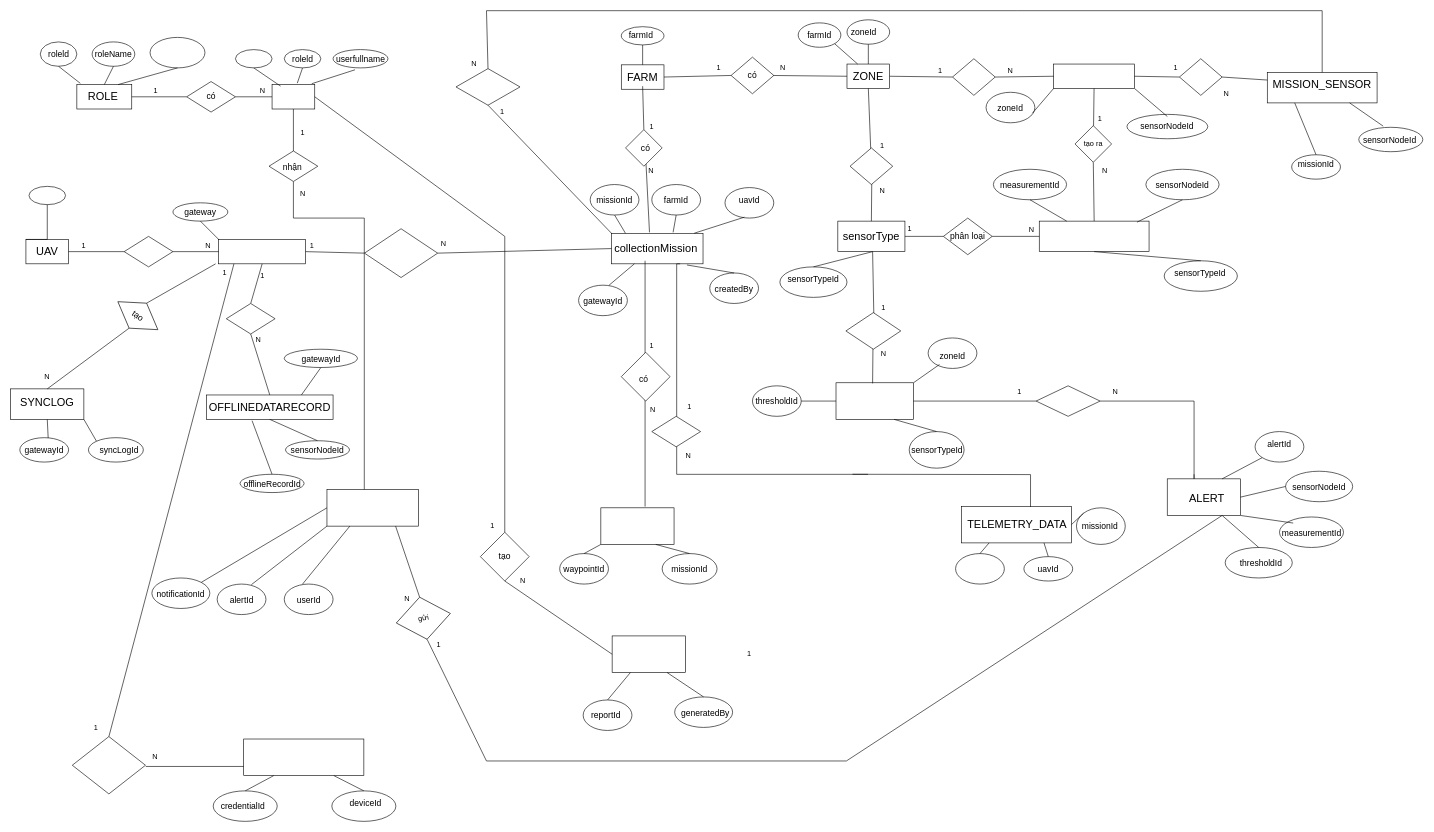
This 1434x832 diagram has some shape labels left out. The shapes that lost their labels are listed below. From the top down, each one's centre as x and y in pixels, then its label:
the point at 177,52: description
the point at 253,58: userld
the point at 487,86: bao gồm
the point at 973,76: chứa
the point at 1093,75: SENSORNODE
the point at 1200,76: tham gia
the point at 293,96: USER
the point at 871,166: thiết lập
the point at 47,195: uavld
the point at 148,251: thực hiện
the point at 262,251: UAV_GATEWAY
the point at 401,253: Hỗ trợ
the point at 1094,236: sensorMeasurement
the point at 250,318: lưu
the point at 873,330: áp dụng cho
the point at 874,400: THRESHOLD
the point at 1067,400: liên quan
the point at 676,431: ghi nhận
the point at 372,507: Notification
the point at 637,525: WAYPOINT
the point at 979,568: telemetryId
the point at 648,654: REPORT
the point at 108,765: xác thực cho thiết bị
the point at 303,757: DEVICECREDENTIAL
